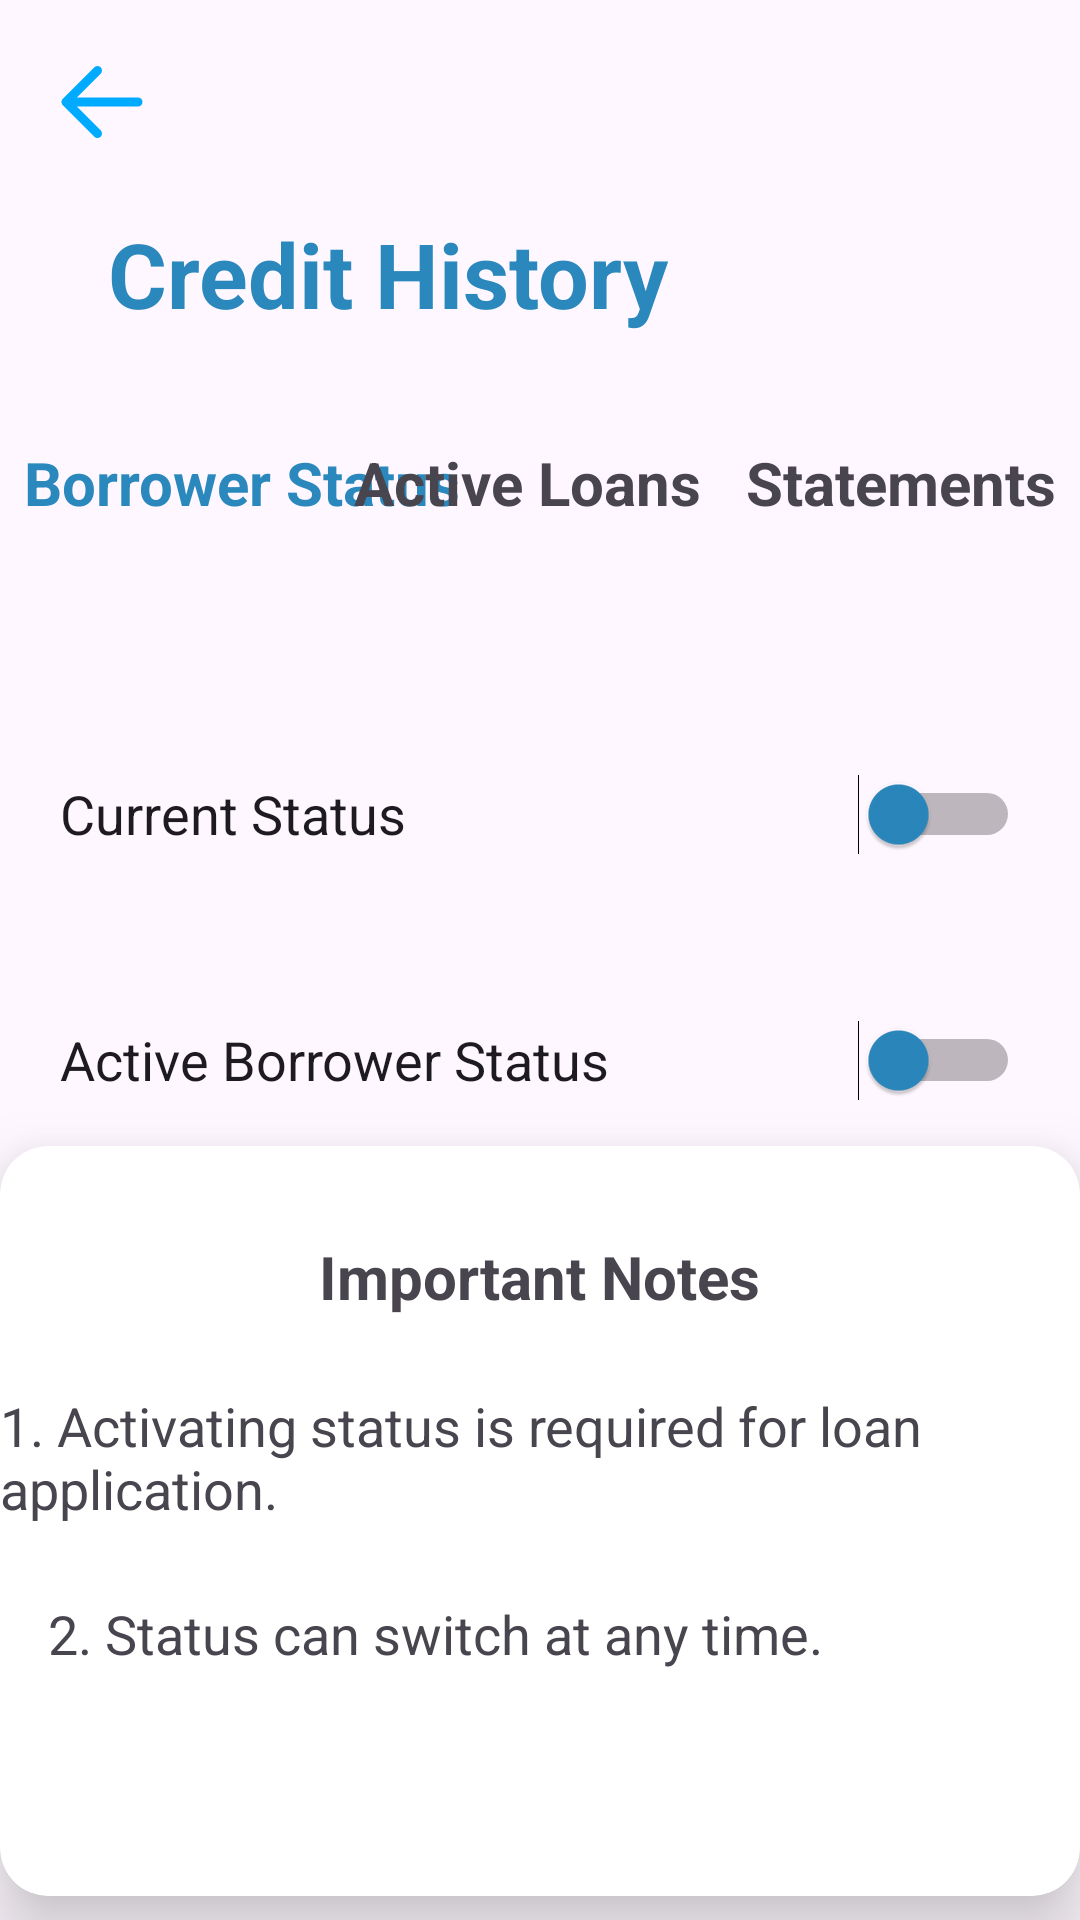

Screen size 1080 x 1920. Icon name, then its center in pixels as (x=x, y=y):
arrow: (x=102, y=102)
